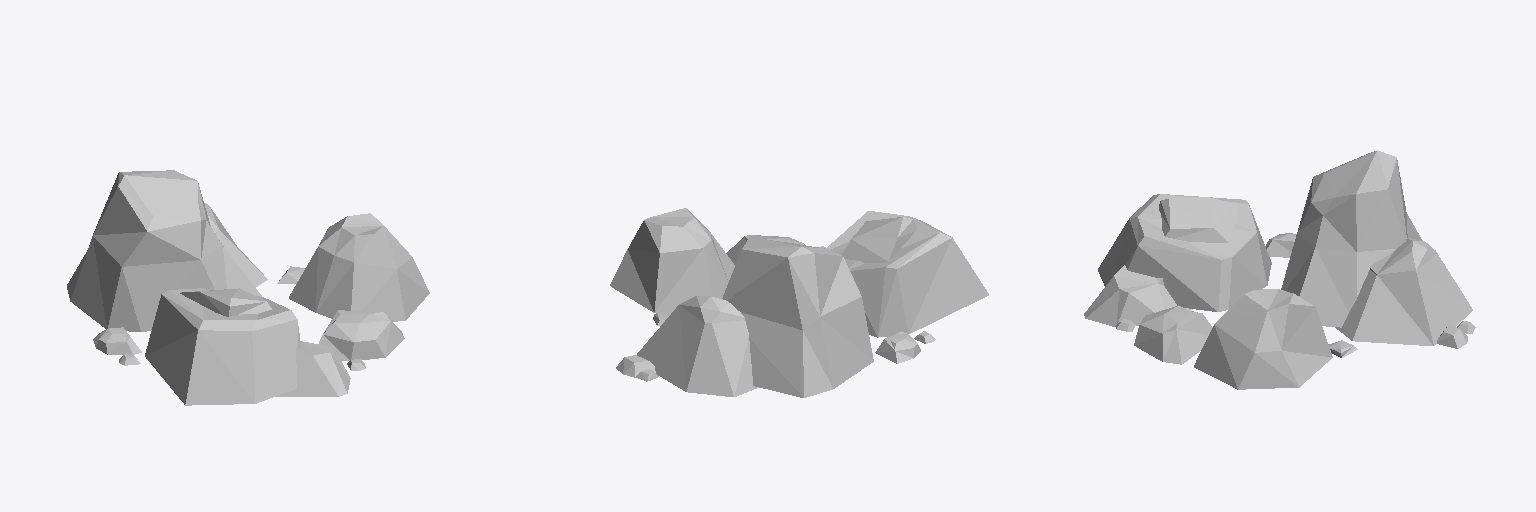
Rendered from rocks1.obj.
3 views of the same model, side by side, from view 1: azimuth 30°, elevation 25°; view 2: azimuth 150°, elevation 25°; view 3: azimuth 270°, elevation 25° (orthographic).
Visible parts, largest first — view 1: Rocks01_Untitled.003; view 2: Rocks01_Untitled.003; view 3: Rocks01_Untitled.003.
Part boxes in pixels (x1,y1,x2,y2): Rocks01_Untitled.003: (67, 170, 429, 405); Rocks01_Untitled.003: (610, 208, 988, 397); Rocks01_Untitled.003: (1084, 150, 1475, 389).
Size of the model in its own units: 5.76 by 2.35 by 6.39.